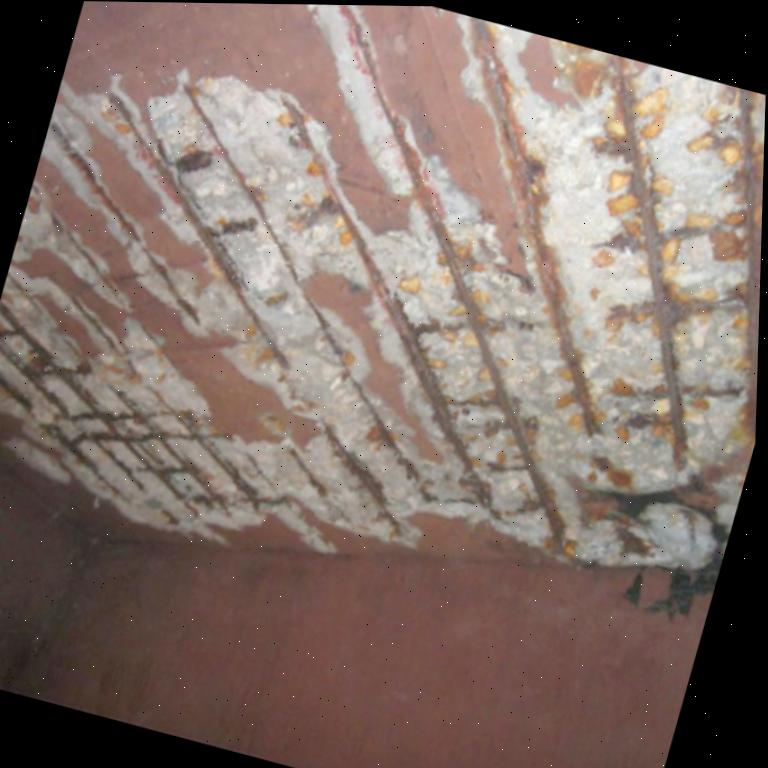exposed_rebar: (342, 5, 567, 555), (180, 85, 433, 503), (281, 95, 492, 506), (108, 90, 292, 374), (0, 300, 201, 519), (490, 84, 599, 433), (50, 116, 199, 326), (613, 57, 688, 470), (107, 384, 230, 516), (145, 385, 260, 513), (324, 426, 399, 530), (739, 89, 761, 438), (37, 423, 128, 501), (0, 328, 72, 419), (50, 212, 117, 299), (608, 282, 747, 322), (596, 223, 726, 252), (66, 293, 117, 353), (89, 439, 147, 491), (72, 432, 234, 446), (288, 449, 326, 498), (69, 411, 193, 424), (0, 376, 33, 417), (175, 150, 212, 176), (136, 464, 186, 482), (41, 360, 93, 377), (222, 218, 258, 234)
spalling: (0, 5, 764, 570)
